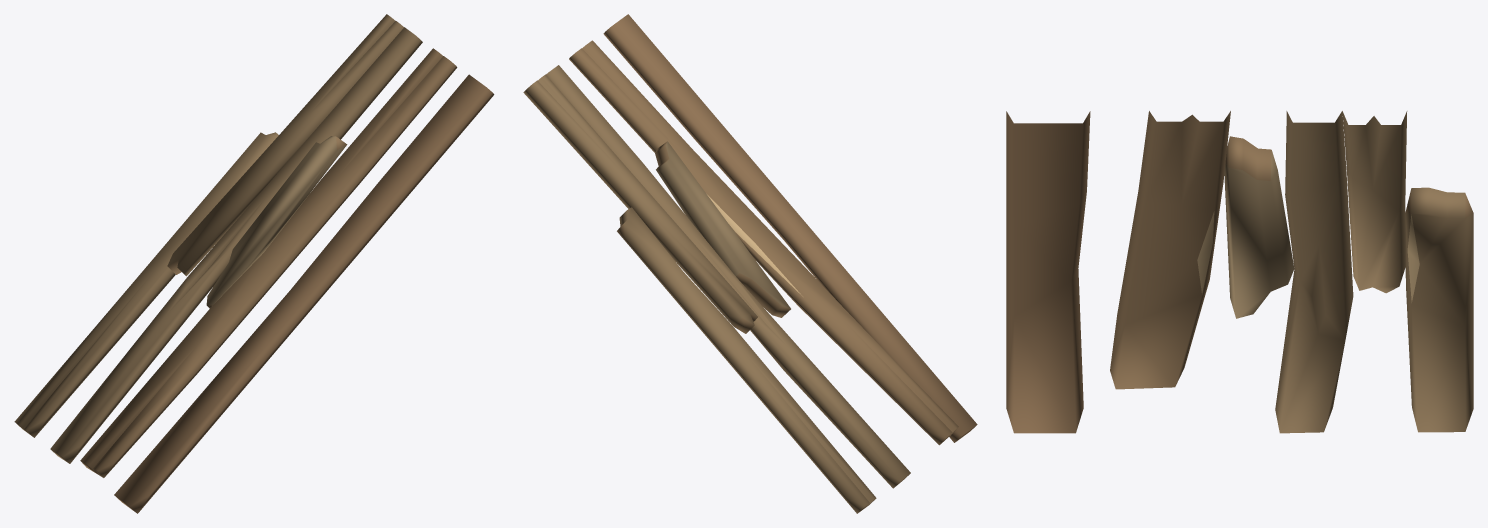
Rendered from rpgpp_av_roof_02_9x4x3_half_b.gltf.
3 renders of one model, left to right at view 1: azimuth 30°, elevation 25°; view 2: azimuth 150°, elevation 25°; view 3: azimuth 270°, elevation 25°, orthographic. The views are drawn at different scales.
Visible parts, largest first — view 1: rpgpp_av_roof_02_9x4x3_half_b; view 2: rpgpp_av_roof_02_9x4x3_half_b; view 3: rpgpp_av_roof_02_9x4x3_half_b.
Part boxes in pixels (left/top/right/bottom): rpgpp_av_roof_02_9x4x3_half_b: left=14, top=14, right=494, bottom=513; rpgpp_av_roof_02_9x4x3_half_b: left=523, top=14, right=977, bottom=513; rpgpp_av_roof_02_9x4x3_half_b: left=1006, top=111, right=1473, bottom=433.
Size of the model in its own units: 0.0543 by 0.0475 by 0.03.
Materials: 1 (1 with a texture image).
